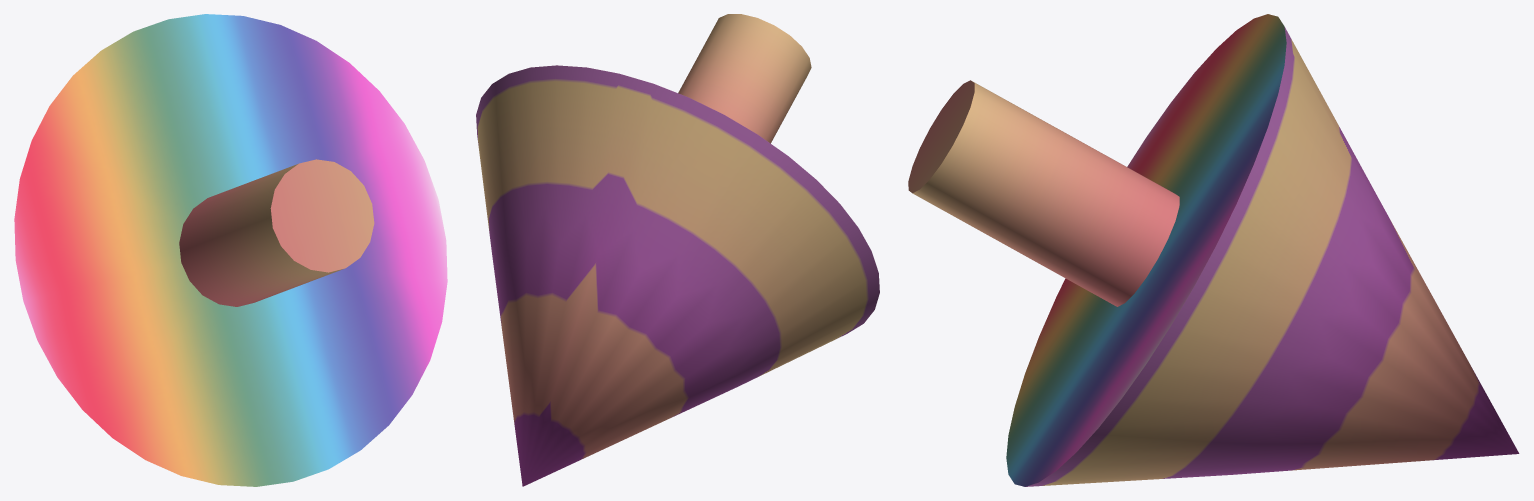
File: spinningtop.FBX
3 views of the same model, side by side, from view 1: azimuth 30°, elevation 25°; view 2: azimuth 150°, elevation 25°; view 3: azimuth 270°, elevation 25° (orthographic). The views are drawn at different scales.
Parts seen in each view (by area): view 1: spinning_top; view 2: spinning_top; view 3: spinning_top.
Boxes of the visible parts, <box> form: spinning_top: <box>14,14,447,486</box>; spinning_top: <box>476,14,879,486</box>; spinning_top: <box>908,14,1519,486</box>.
Size of the model in its own units: 42.96 by 48.88 by 36.66.
Materials: 1 (1 with a texture image).
